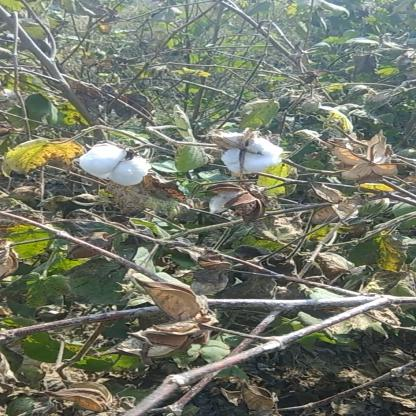cotton_ready: (187, 128, 290, 182), (62, 142, 154, 194)
